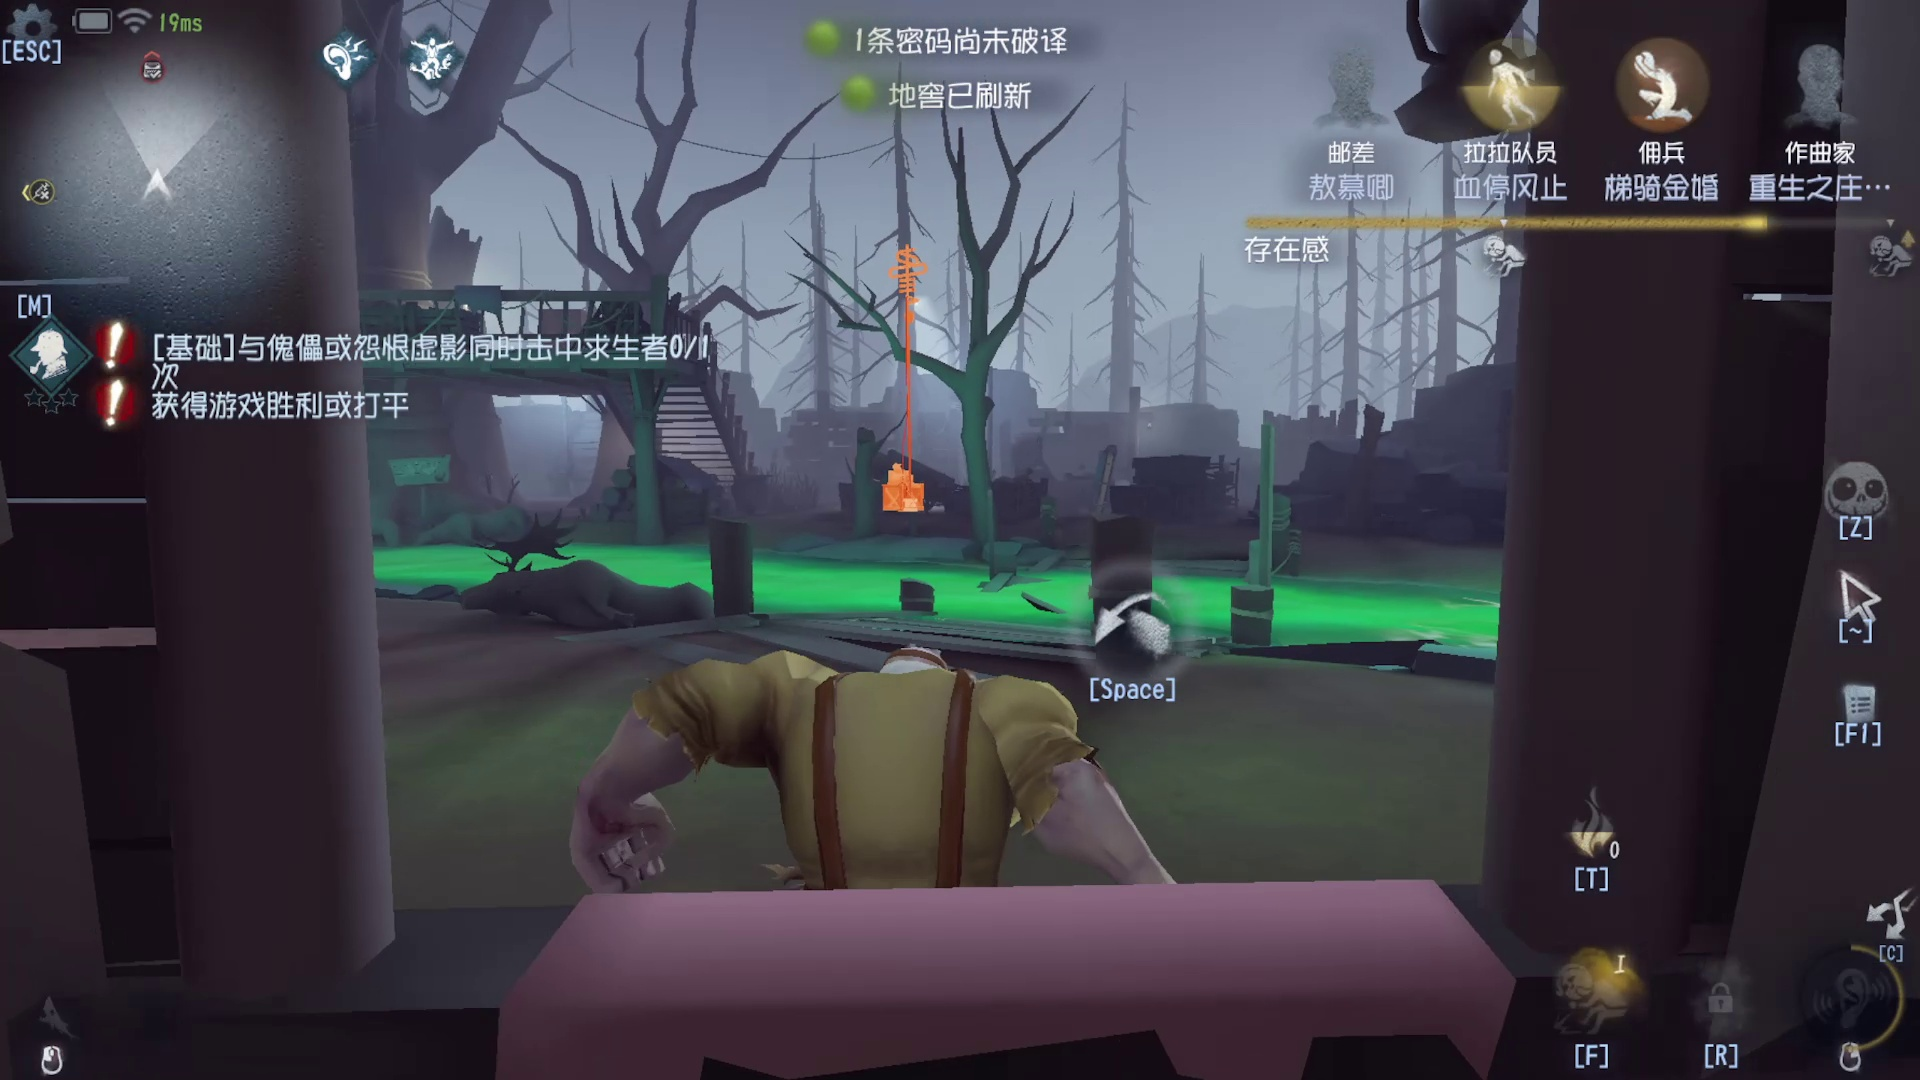密码机: (825, 227, 982, 527)
